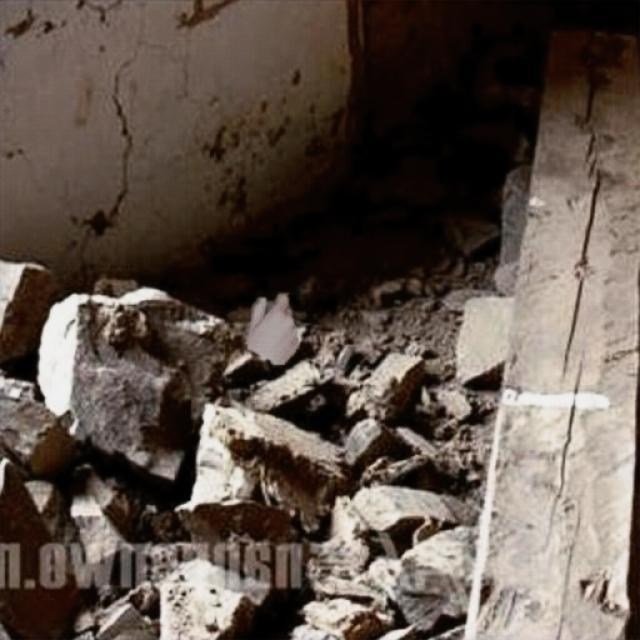Person in Rubble: (245, 292, 299, 363)
